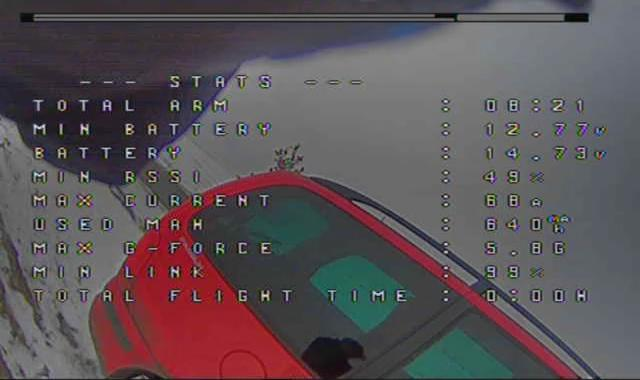car: (78, 164, 598, 380)
